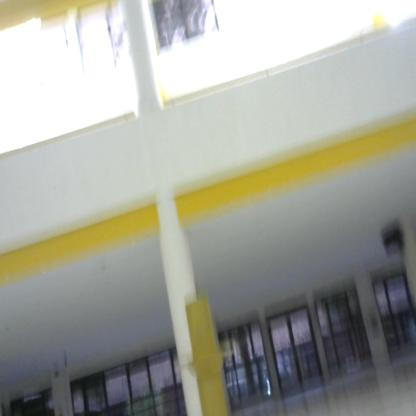pole: (179, 293, 239, 416)
